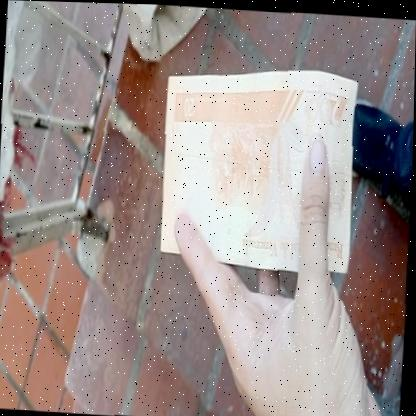vef_back: (160, 60, 359, 272)
